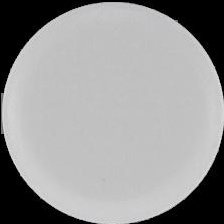49884-065: (0, 0, 224, 224)
